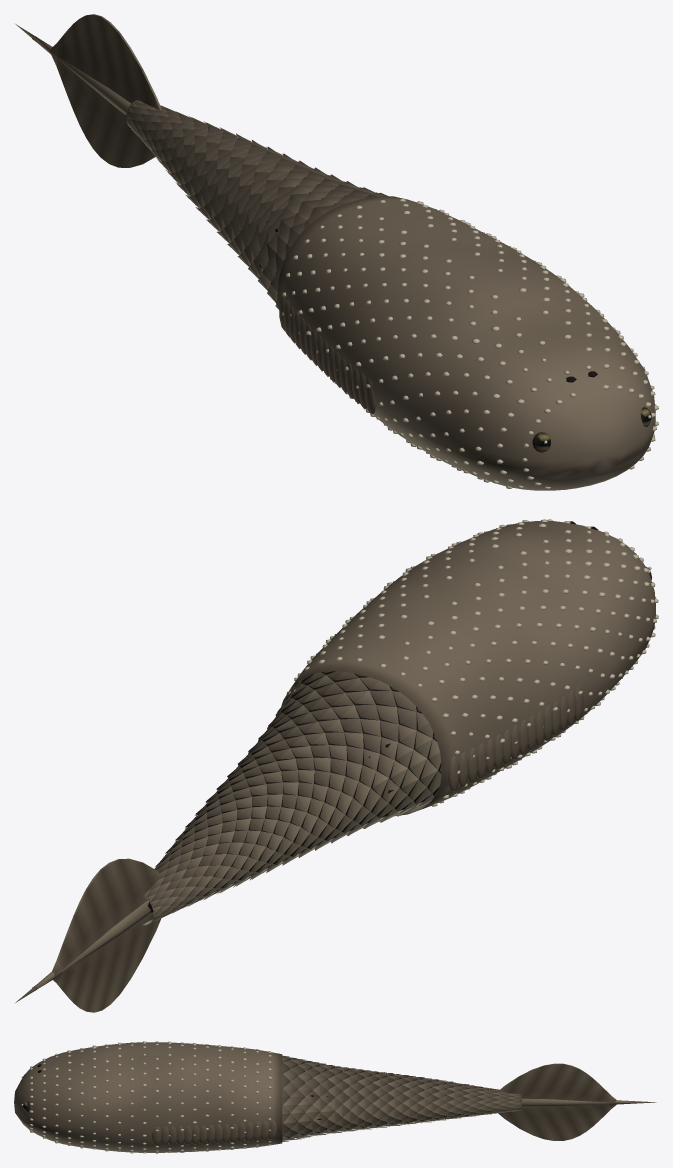
The model's file is SacabambaspisJanvieri.fbx.
The picture shows the model from 3 angles, top to bottom: view 1: azimuth 30°, elevation 25°; view 2: azimuth 150°, elevation 25°; view 3: azimuth 270°, elevation 25°; orthographic projection. The views are drawn at different scales.
Parts seen in each view (by area): view 1: SacabambaspisJanvieri; view 2: SacabambaspisJanvieri; view 3: SacabambaspisJanvieri.
Part boxes in pixels (bbox=[...]): SacabambaspisJanvieri: bbox=[15, 14, 658, 490]; SacabambaspisJanvieri: bbox=[15, 519, 658, 1012]; SacabambaspisJanvieri: bbox=[14, 1041, 656, 1153].
Bounding box in the file's own units: 0.3786 × 0.2865 × 1.8.
